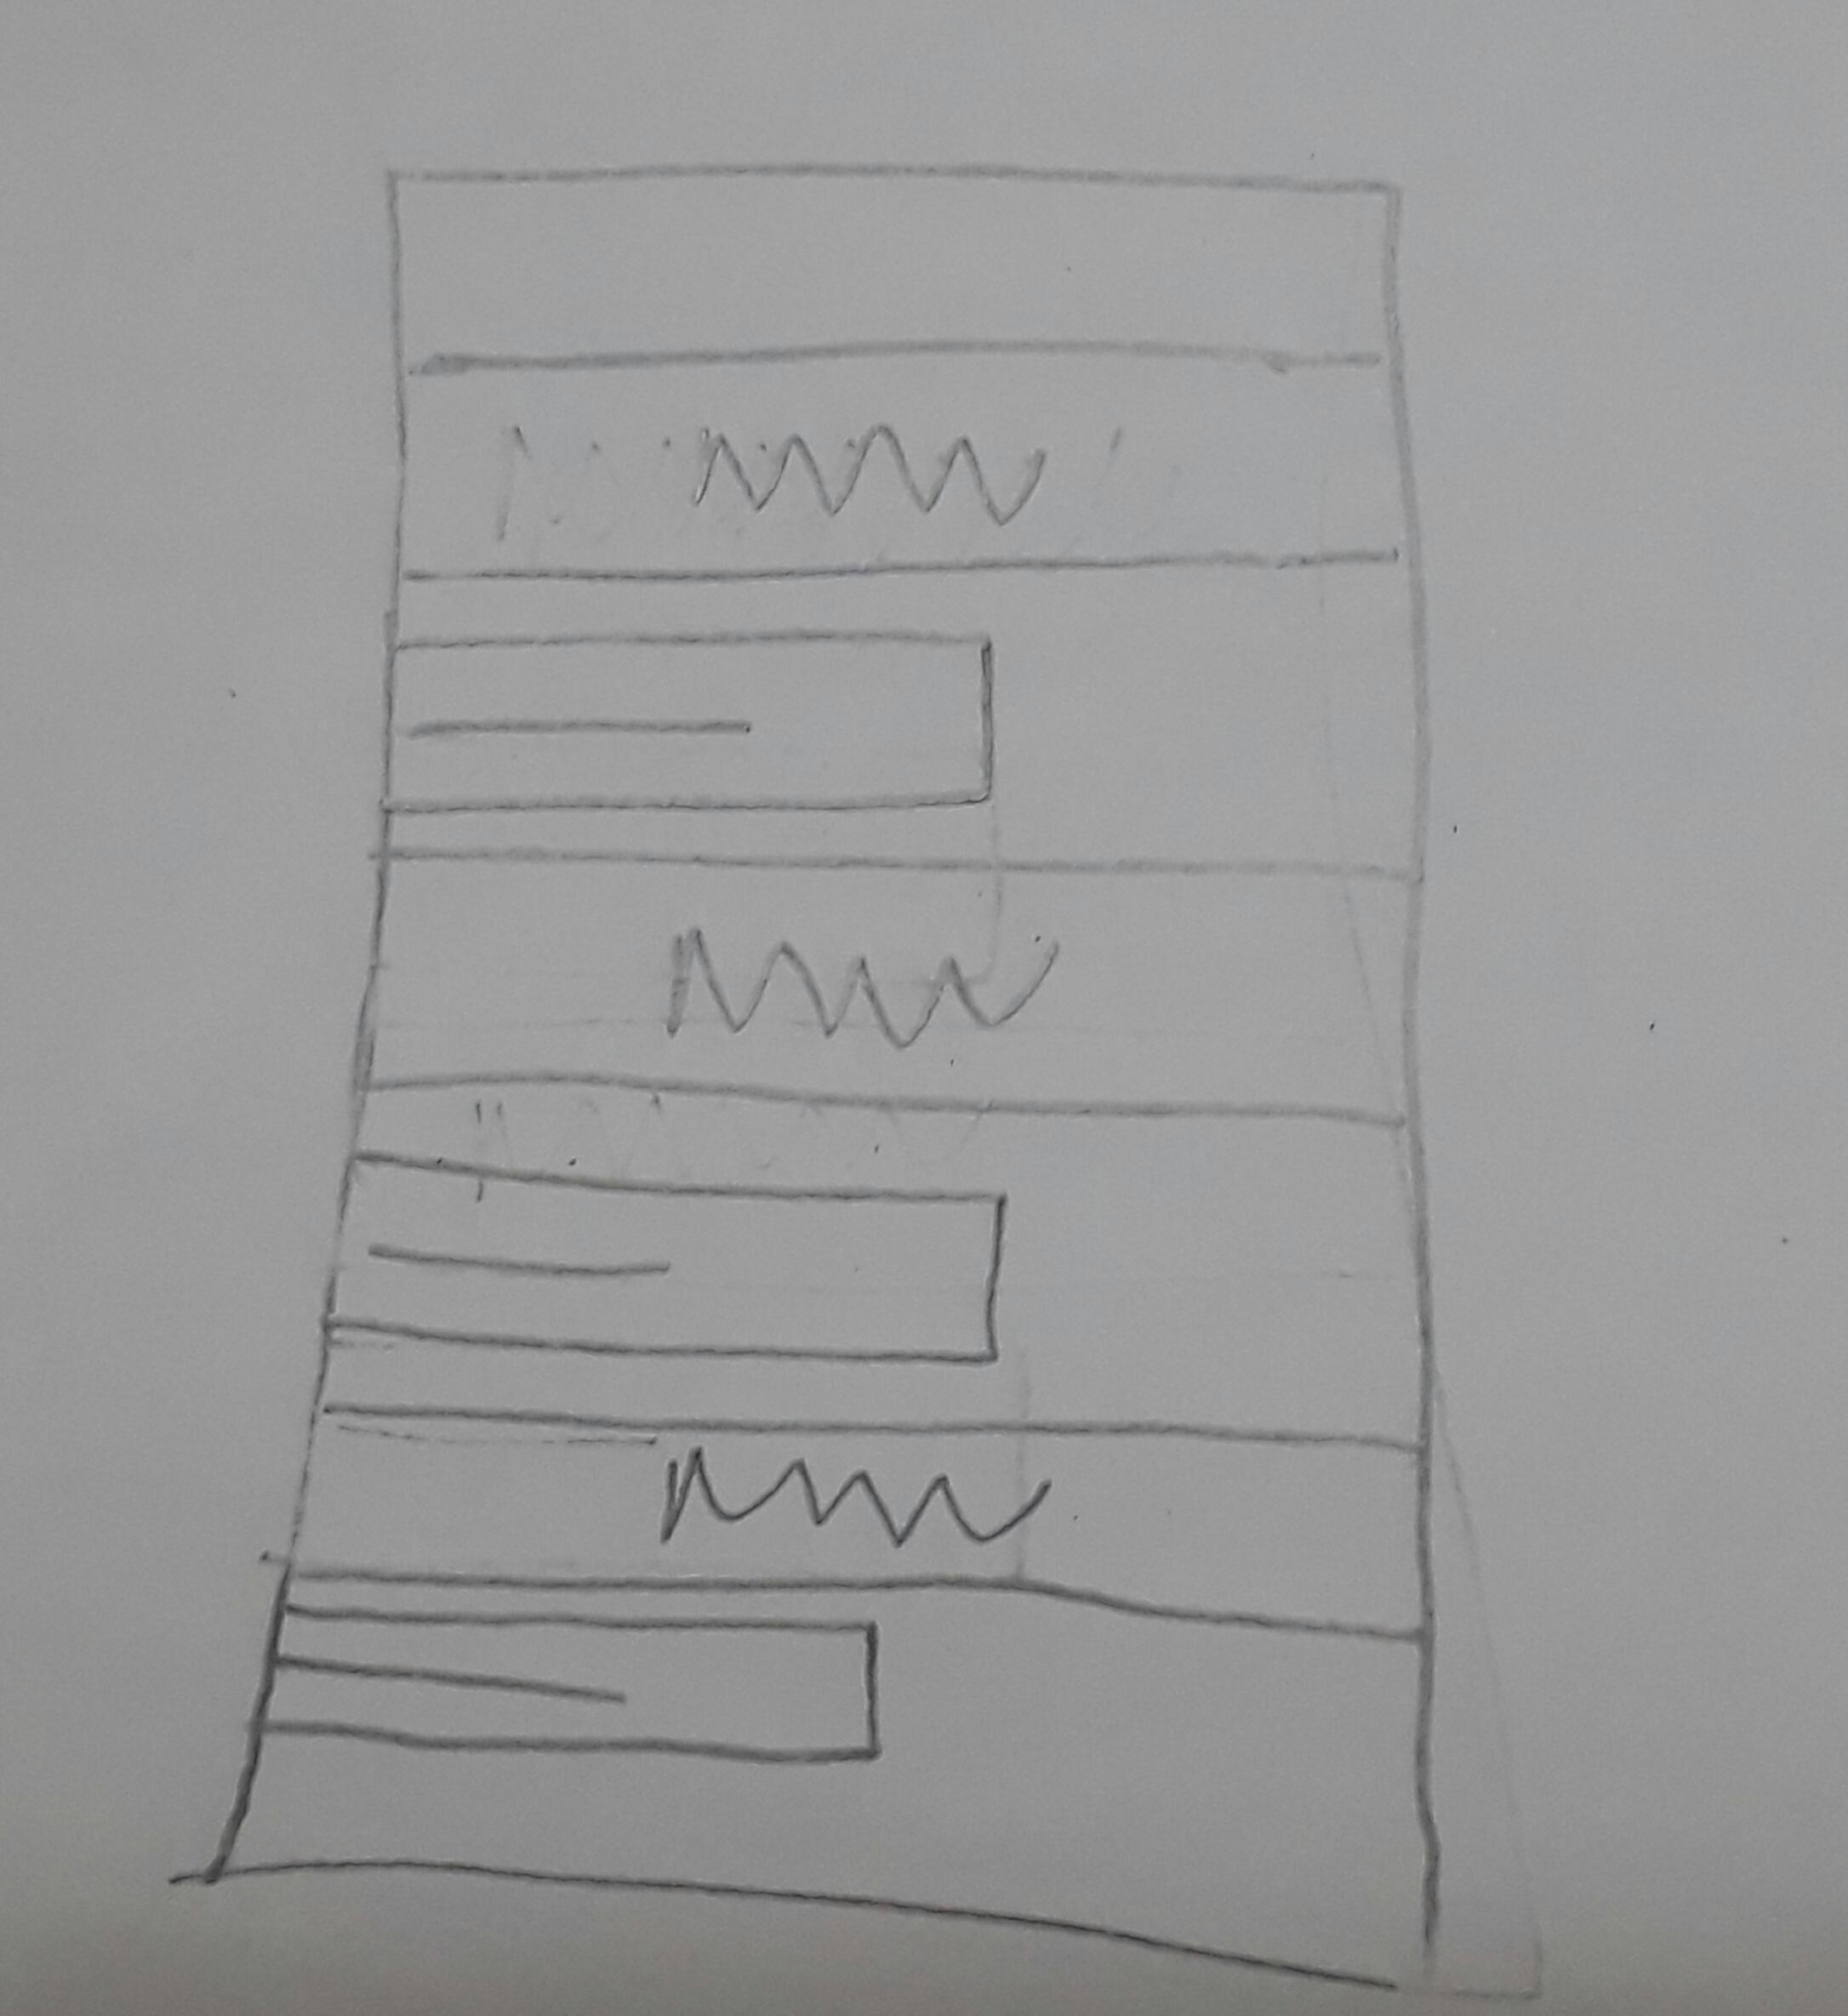Label: (466, 414, 1063, 530)
Map: (666, 924, 1061, 1055), (657, 1447, 1059, 1556)
Screen: (206, 167, 1428, 1976)
TextBox: (328, 1159, 1005, 1368), (383, 632, 996, 815), (256, 1609, 877, 1749)
